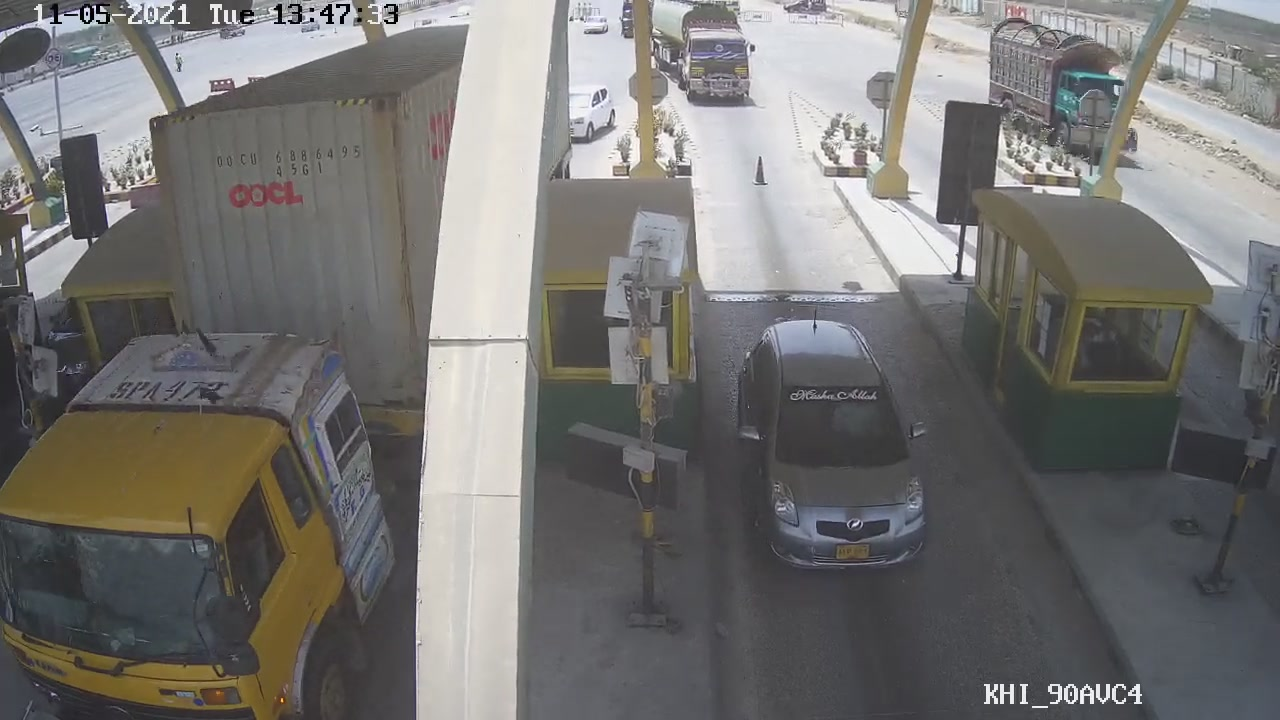F1: (732, 328, 970, 579)
